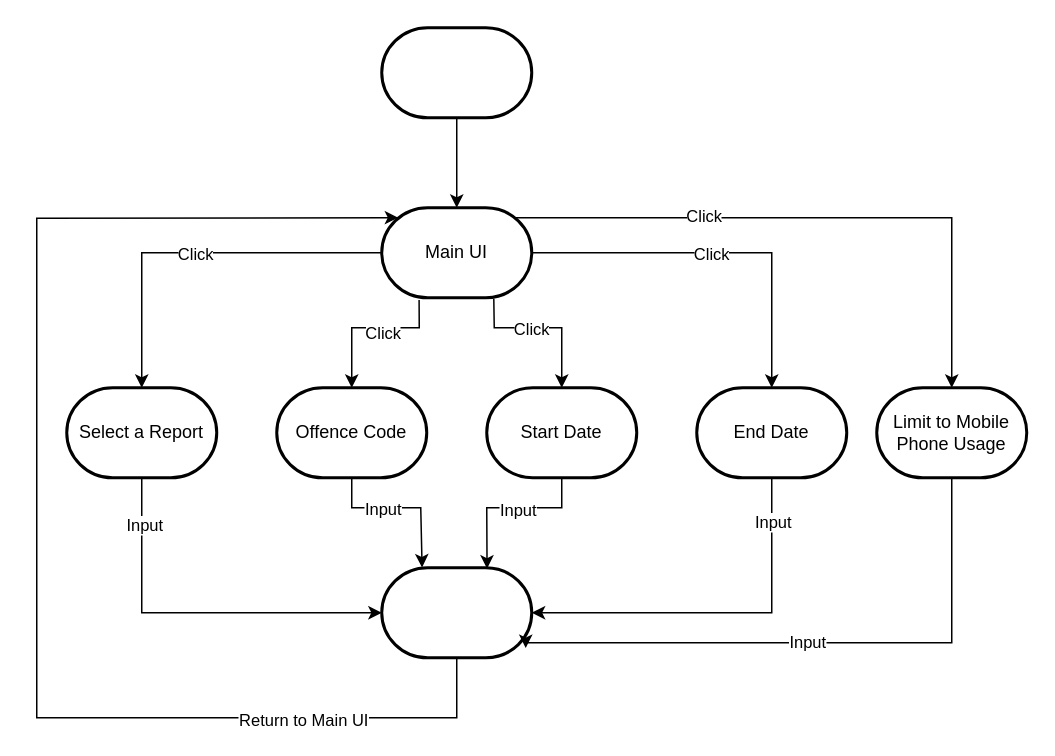
This 1055x756 diagram has some shape labels left out. Here are the shapes that lost their labels. From the top down, the centre of each, then its label:
At point (456, 72): "Run Software".
At point (456, 612): "Data Display".
